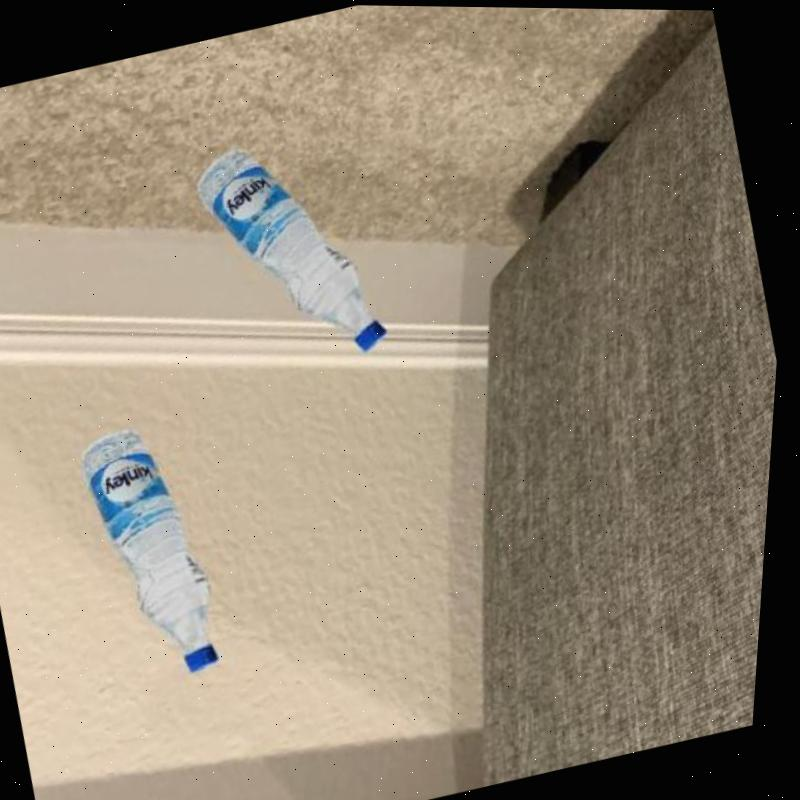botella: (177, 119, 407, 383), (68, 413, 248, 693)
